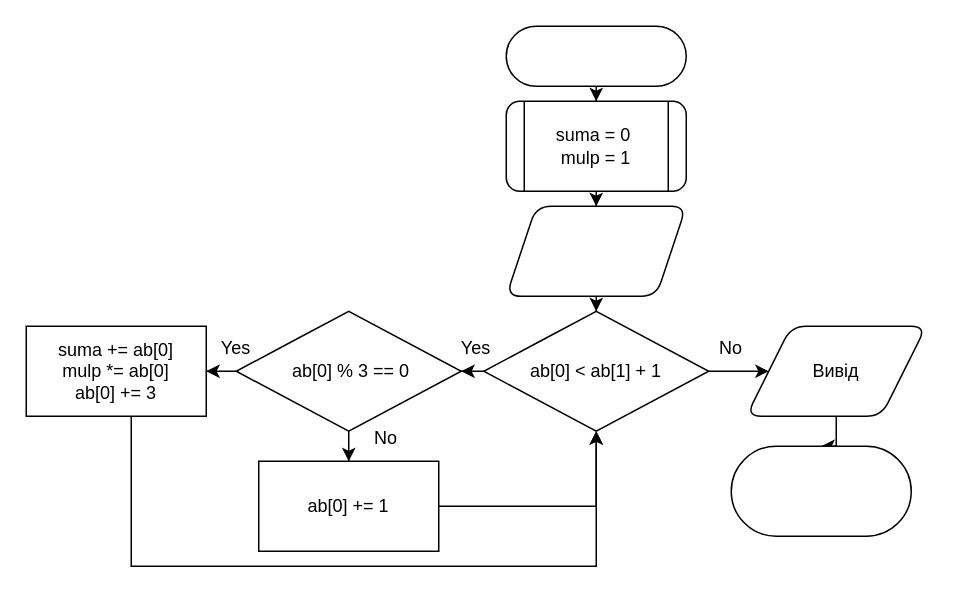
The diagram is 953 pixels wide and 605 high, and some of its shapes have lost their labels. The centre of each missing label's shape, as x and y in pixels:
"ab" goes at (x=595, y=250).
"End" goes at (x=820, y=490).
"Start" goes at (x=595, y=55).
